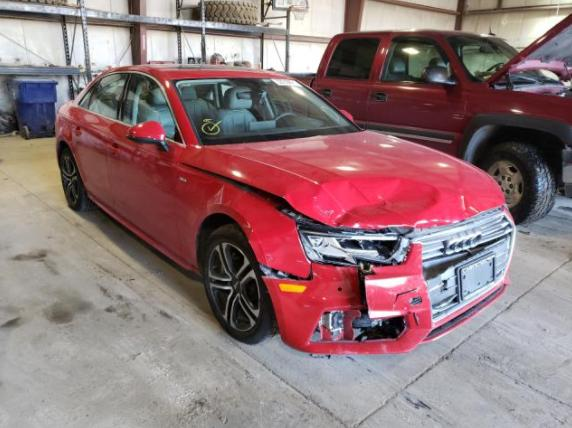Back-door: (71, 70, 131, 211)
Back-wheel: (59, 148, 99, 212)
Back-window: (89, 74, 126, 118), (78, 83, 96, 108)
Fender: (177, 163, 311, 279)
Front-bumper: (262, 242, 512, 354)
Front-door: (105, 70, 188, 256)
Front-wheel: (201, 226, 277, 344)
Front-window: (122, 75, 174, 140)
Grille: (408, 209, 513, 321)
Hood: (181, 129, 504, 228)
Mirror: (126, 120, 170, 152)
Quarter-panel: (54, 101, 90, 194)
Rocker-panel: (88, 193, 200, 277)
Roof: (131, 66, 296, 80)
Windshield: (173, 78, 360, 144)
